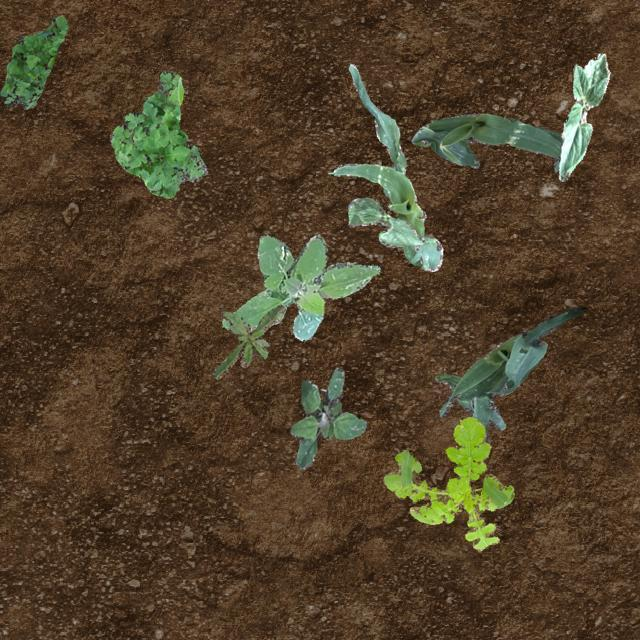crop: (326, 64, 442, 270), (433, 306, 585, 442), (410, 112, 562, 170), (558, 51, 608, 180), (347, 196, 422, 246)
weed: (382, 416, 512, 550), (220, 233, 378, 339), (108, 70, 206, 196), (290, 367, 366, 468), (0, 14, 67, 108), (210, 304, 284, 378)
